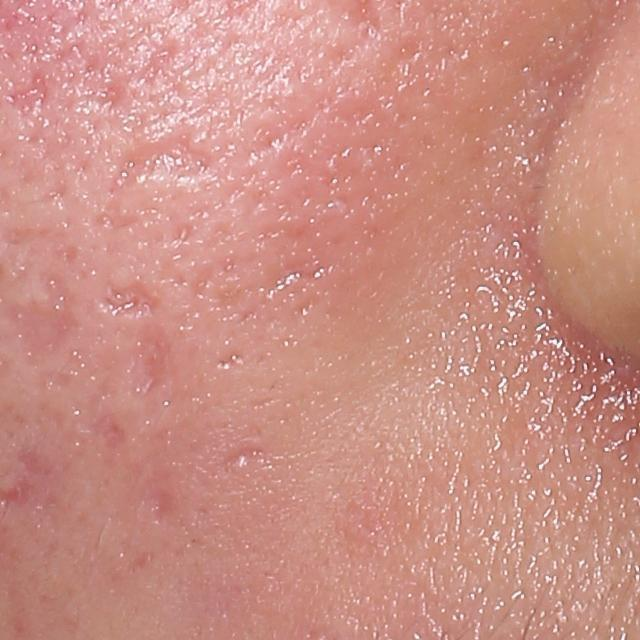atrophic_scar: (101, 118, 226, 227), (184, 265, 375, 333), (238, 93, 354, 178), (88, 275, 160, 322), (133, 328, 174, 402), (83, 413, 138, 458), (143, 485, 181, 527), (220, 445, 274, 468), (213, 348, 251, 376)
